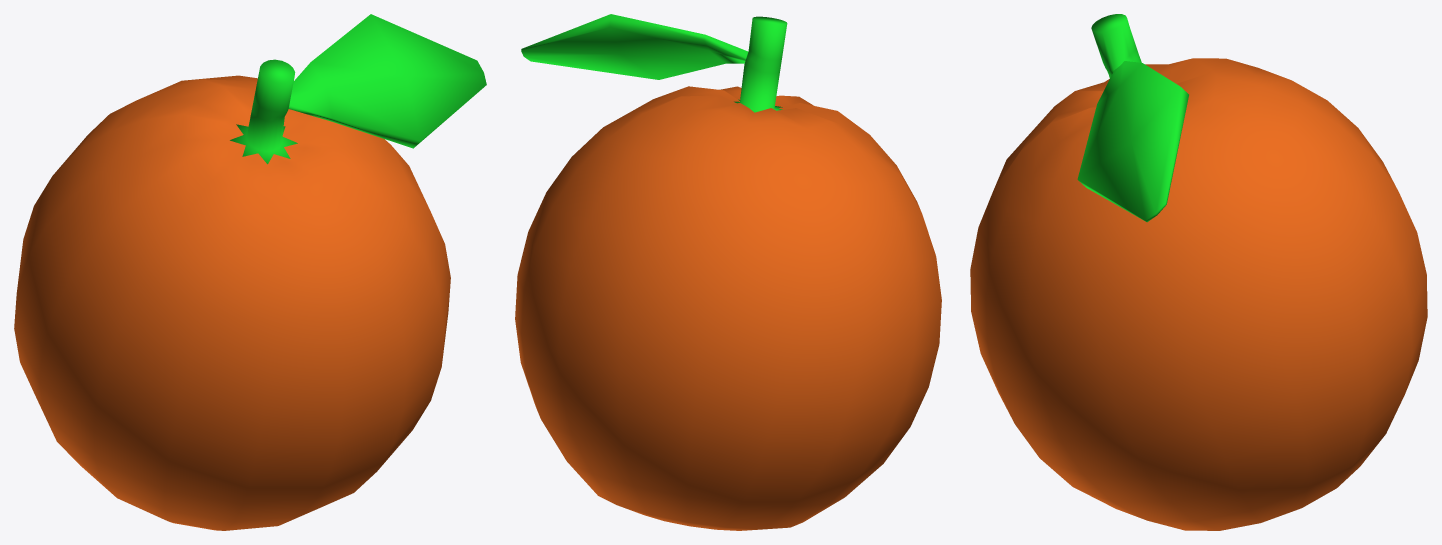
File: OrangeModel.glb
3 renders of one model, left to right at view 1: azimuth 30°, elevation 25°; view 2: azimuth 150°, elevation 25°; view 3: azimuth 270°, elevation 25°, orthographic. The views are drawn at different scales.
Parts seen in each view (by area): view 1: Laranja; view 2: Laranja; view 3: Laranja.
Boxes of the visible parts, left/top/right/bottom form: Laranja: left=14, top=14, right=486, bottom=530; Laranja: left=515, top=14, right=941, bottom=530; Laranja: left=970, top=14, right=1427, bottom=530.
Bounding box in the file's own units: 1.09 × 1.18 × 1.
